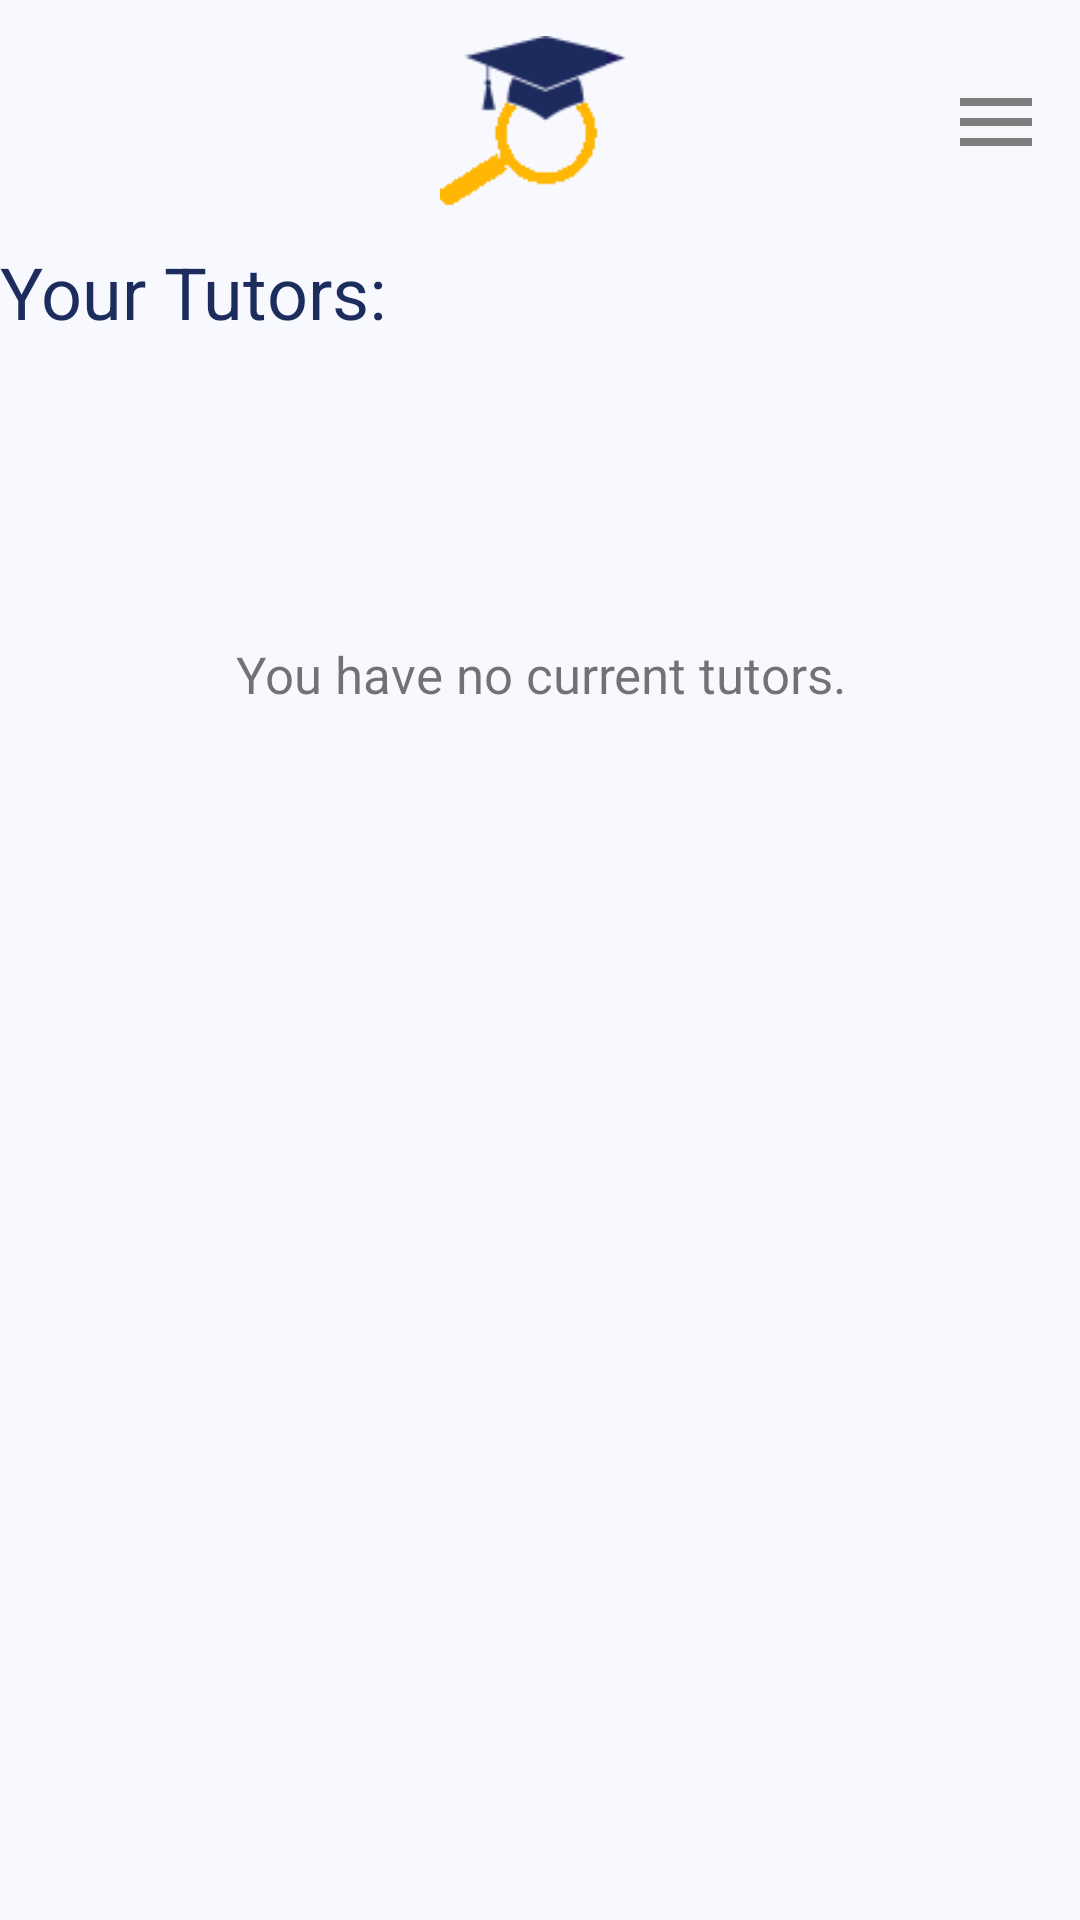

Icon click points for this 1080 x 1920 phone screenshot, format point (x, y):
menu: point (996, 122)
